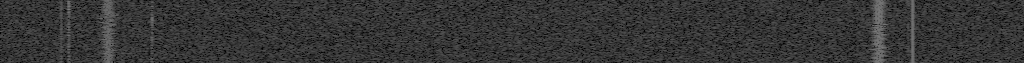wv_cw: (910, 0, 916, 63), (59, 0, 64, 63)
wv_lsb: (149, 1, 155, 63)
wv_usb: (66, 0, 72, 57), (906, 35, 911, 58), (906, 16, 911, 34), (906, 1, 911, 11), (66, 58, 72, 63)
wv_wbfm: (94, 0, 123, 63), (866, 0, 892, 63)
